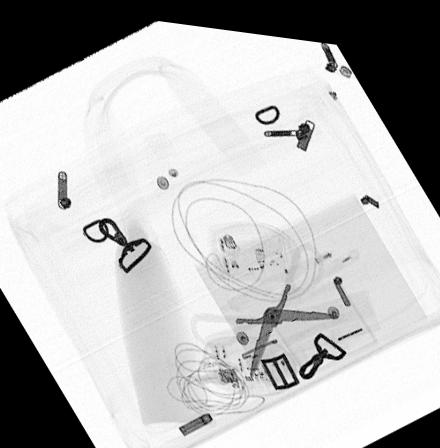Scissors: (186, 229, 339, 369)
